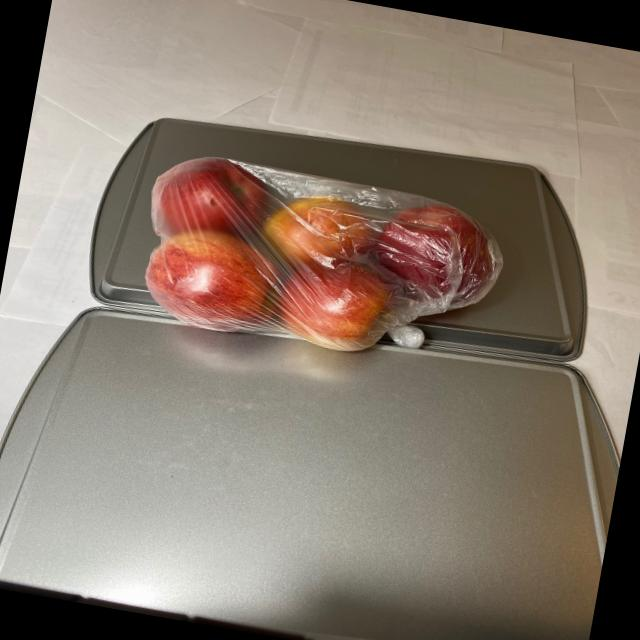apple: (131, 144, 514, 373)
